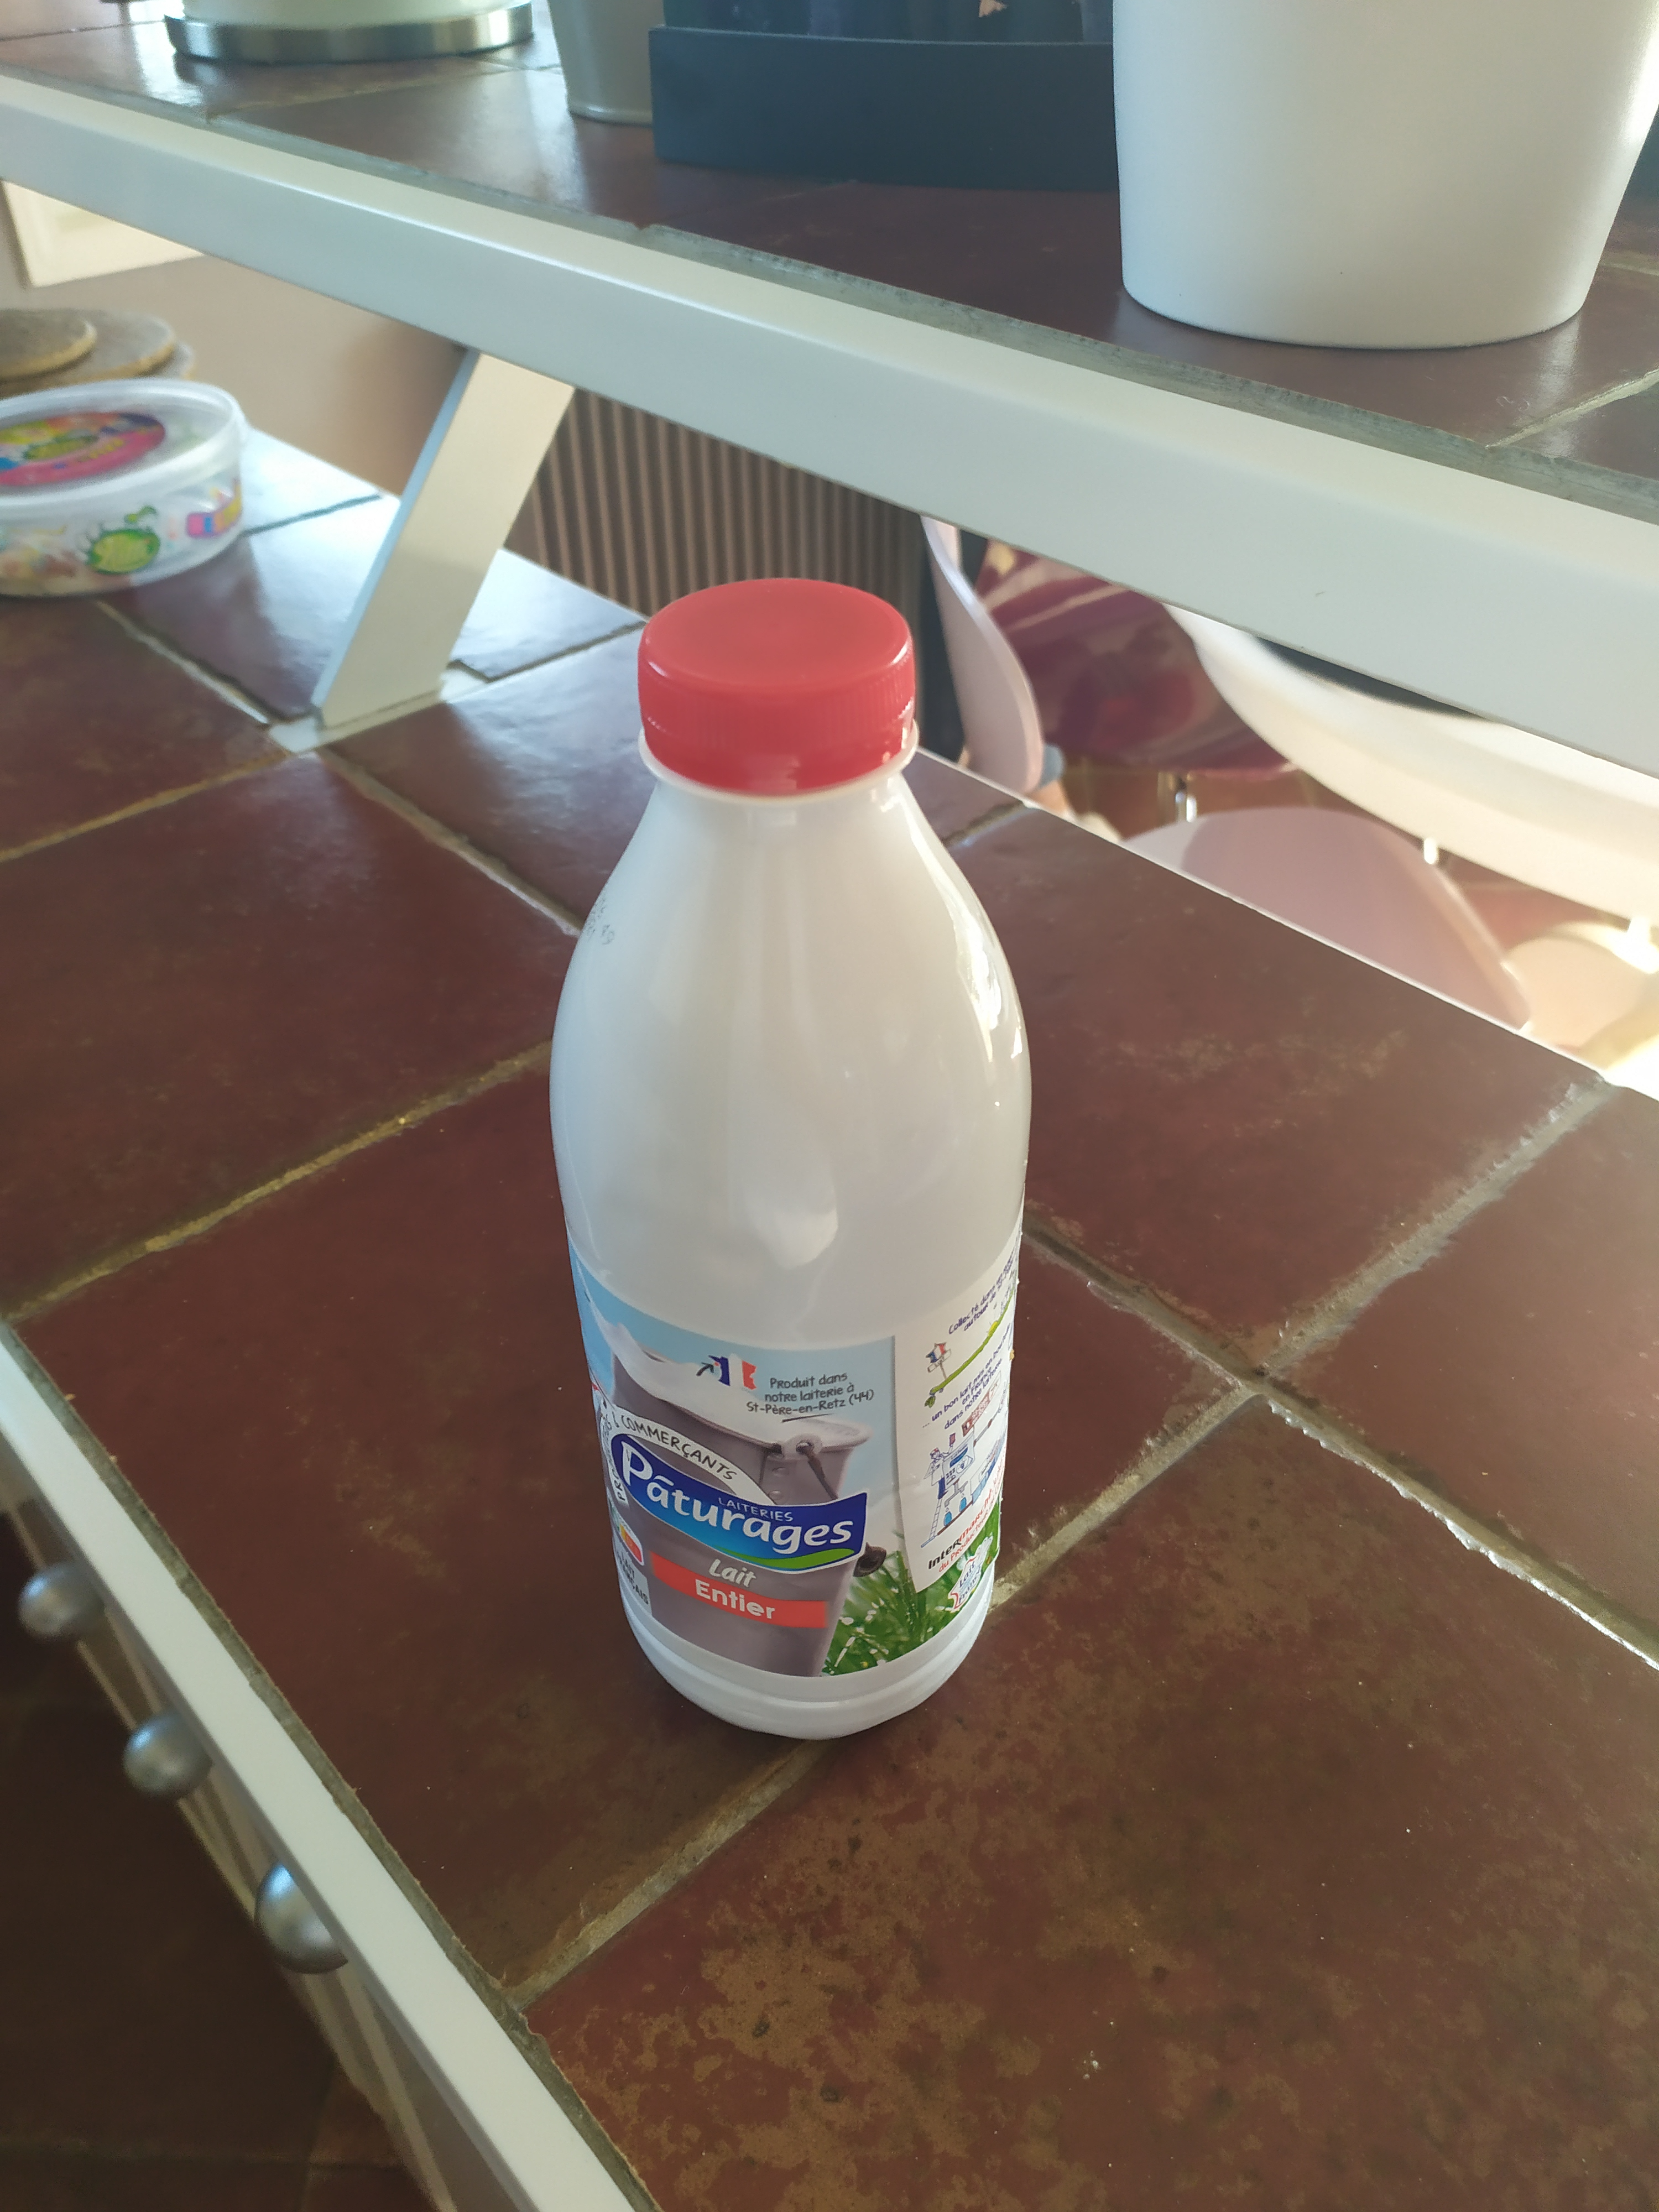milk: (551, 583, 1040, 1740)
